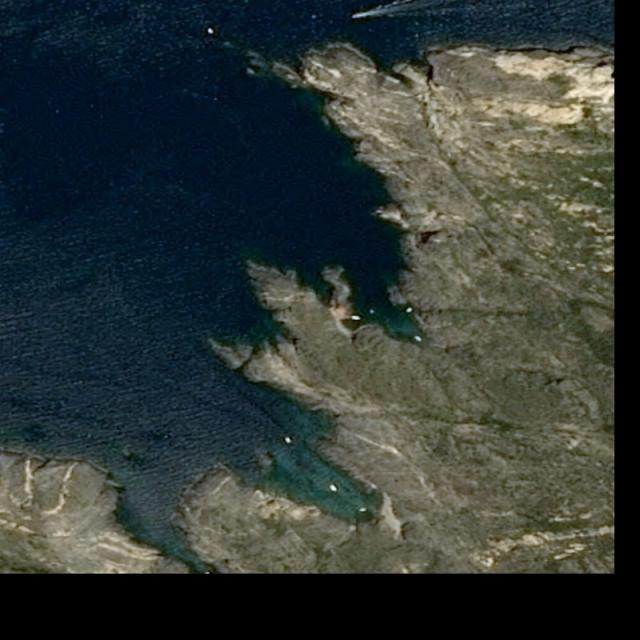ship: (350, 10, 367, 23), (328, 482, 340, 494), (284, 436, 293, 446), (206, 27, 214, 35), (351, 315, 359, 321)
